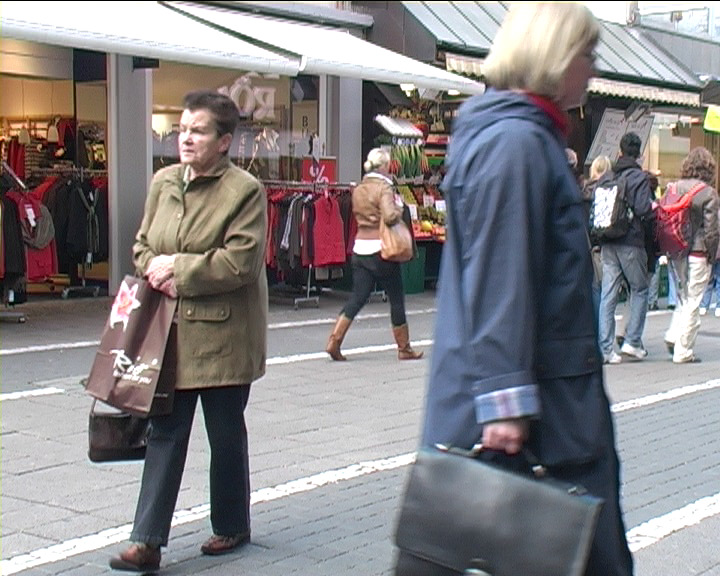undeflect: (148, 93, 269, 216)
